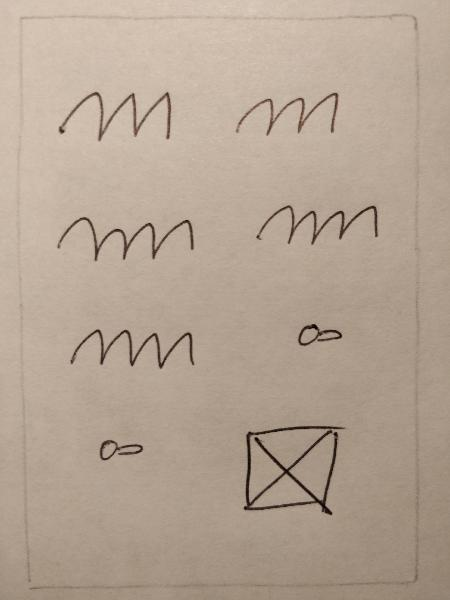image: (237, 417, 348, 523)
switch: (82, 426, 152, 470), (283, 317, 359, 357)
text: (47, 213, 209, 275), (49, 81, 190, 152), (61, 318, 210, 381), (224, 80, 342, 149), (250, 197, 383, 255)
